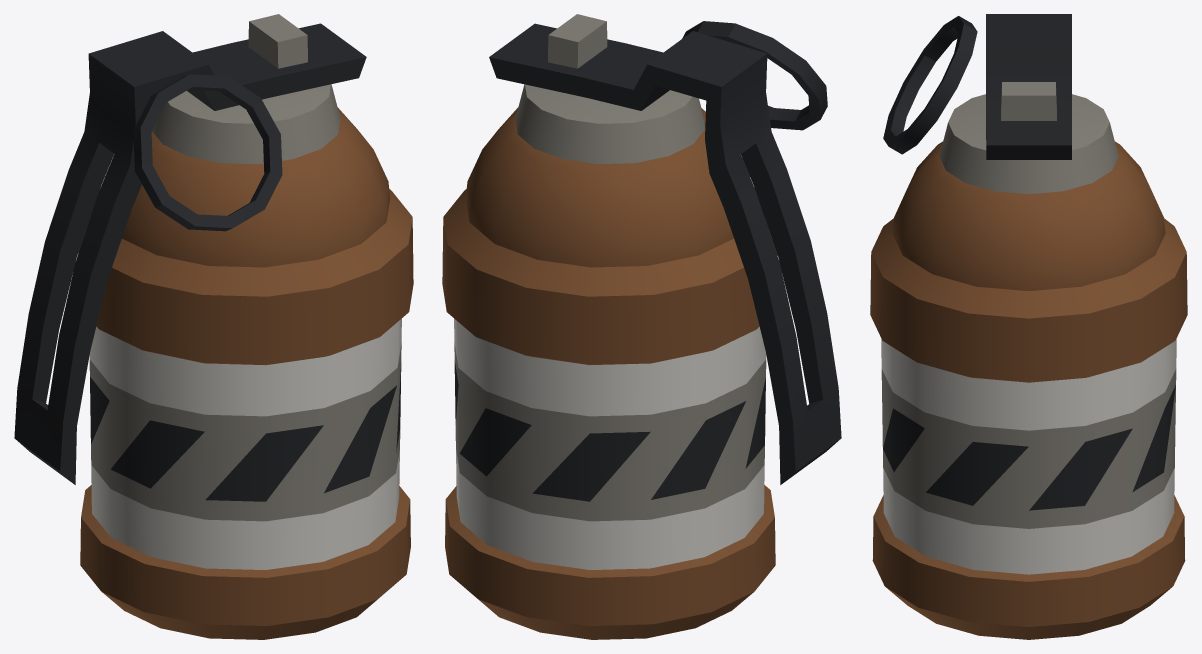
File: cc0-fire-grenade-lod0.glb
3 renders of one model, left to right at view 1: azimuth 30°, elevation 25°; view 2: azimuth 150°, elevation 25°; view 3: azimuth 270°, elevation 25°, orthographic. The views are drawn at different scales.
Visible parts, largest first — view 1: part_0; view 2: part_0; view 3: part_0.
Boxes of the visible parts, x1=… form: part_0: x1=14, y1=14, x2=413, y2=639; part_0: x1=442, y1=14, x2=841, y2=639; part_0: x1=870, y1=14, x2=1187, y2=639.
Size of the model in its own units: 0.5695 by 0.85 by 0.4706.
